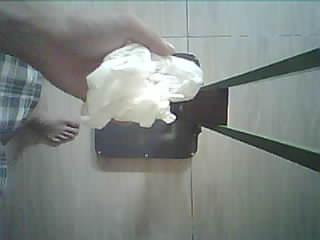paper: (82, 43, 203, 129)
